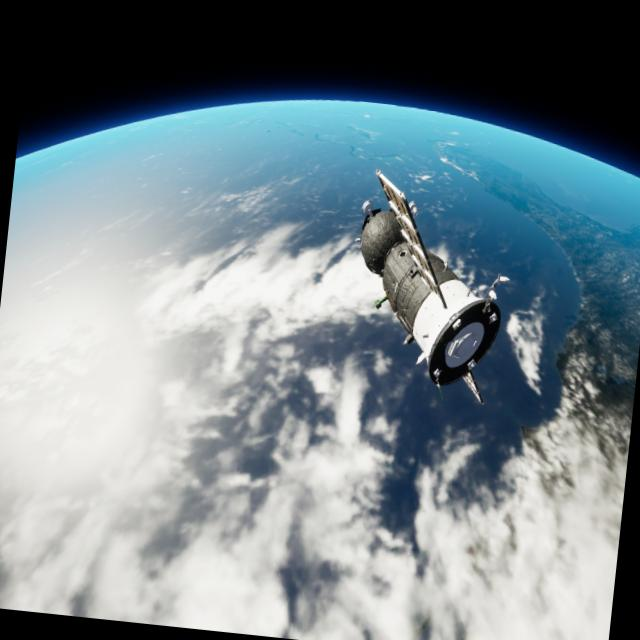Satellites revolving around earth: (340, 164, 520, 409)
